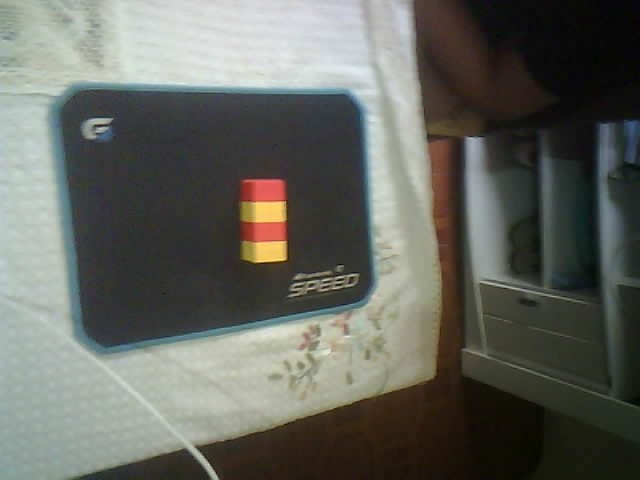lego: (237, 177, 288, 265)
